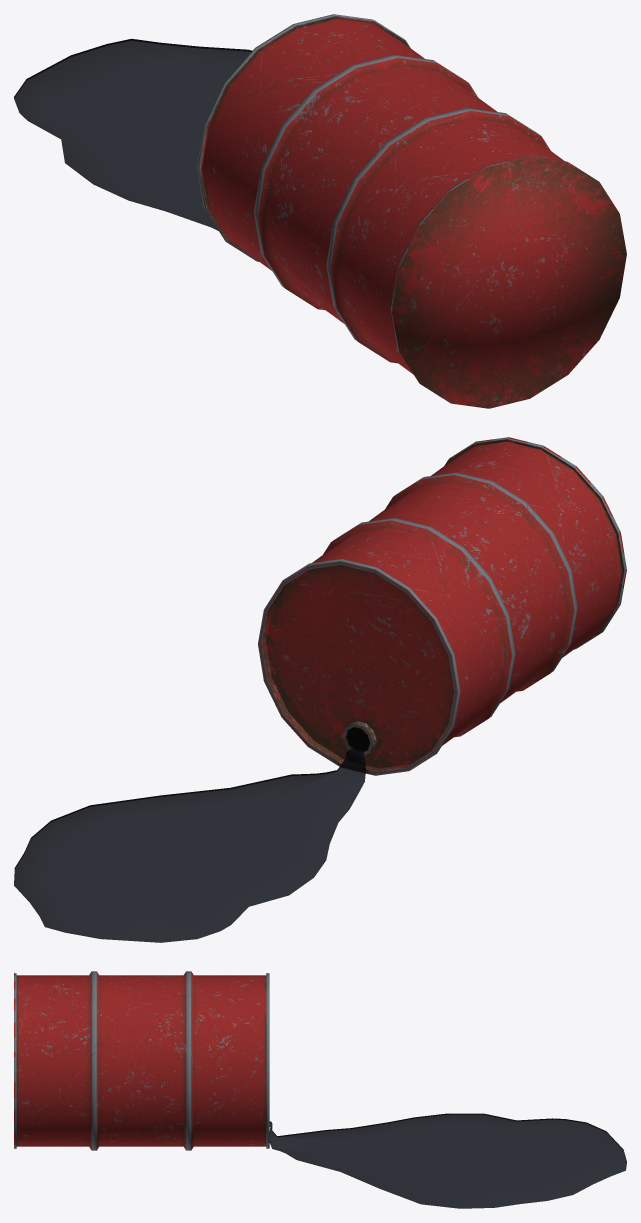
3 views of the same model, one above another, from view 1: azimuth 30°, elevation 25°; view 2: azimuth 150°, elevation 25°; view 3: azimuth 270°, elevation 25° (orthographic). The views are drawn at different scales.
Visible parts, largest first — view 1: Low_1, Low_2; view 2: Low_1, Low_2; view 3: Low_1, Low_2.
Part boxes in pixels (bbox=[...]): Low_1: bbox=[197, 14, 626, 408]; Low_2: bbox=[14, 38, 252, 230]; Low_1: bbox=[258, 437, 626, 775]; Low_2: bbox=[14, 748, 365, 942]; Low_1: bbox=[14, 971, 269, 1150]; Low_2: bbox=[269, 1113, 626, 1208].
Bounding box in the file's own units: 1.19 × 0.8531 × 2.93.
2 materials, 2 textured.
